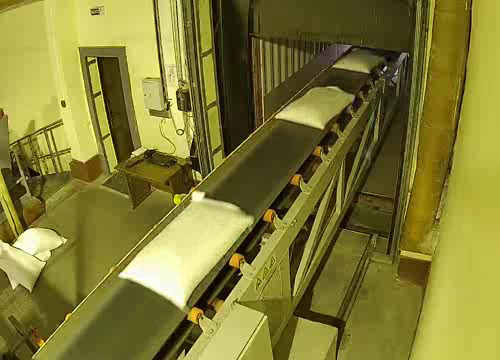bag: (116, 186, 261, 316), (271, 82, 359, 132), (330, 46, 392, 74)
